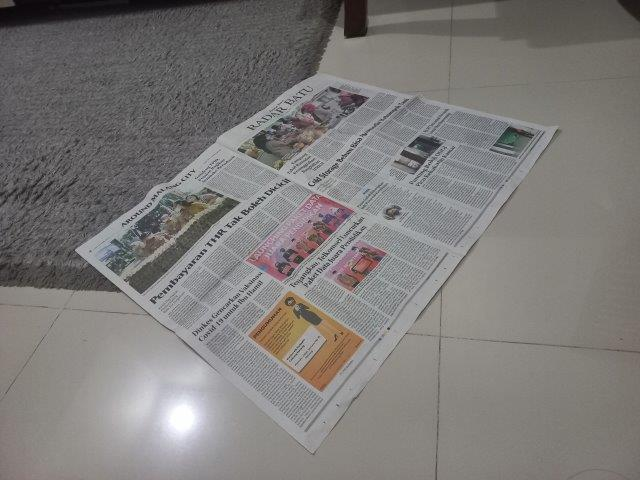kertas: (74, 73, 556, 455)
